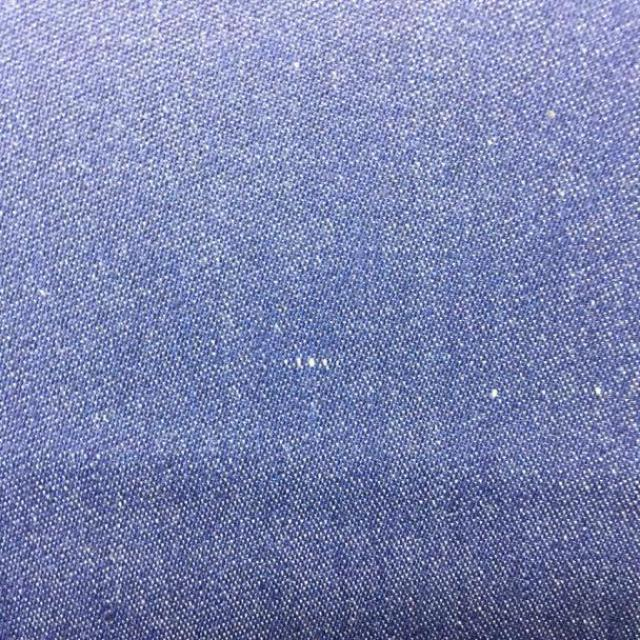Knot: (283, 356, 337, 371)
